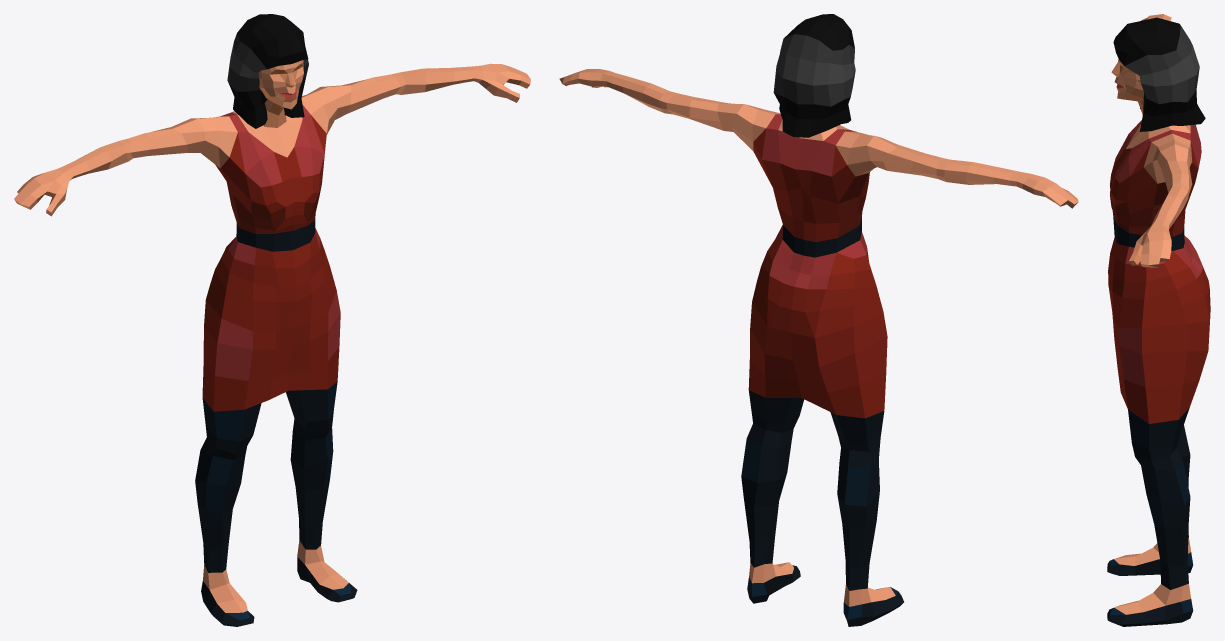
The model's file is Laura_(LSD).fbx.
3 renders of one model, left to right at view 1: azimuth 30°, elevation 25°; view 2: azimuth 150°, elevation 25°; view 3: azimuth 270°, elevation 25°, orthographic.
Visible parts, largest first — view 1: lpFemale_casual_B; view 2: lpFemale_casual_B; view 3: lpFemale_casual_B.
Boxes of the visible parts, <box> form: lpFemale_casual_B: <box>14,14,530,626</box>; lpFemale_casual_B: <box>559,14,1078,626</box>; lpFemale_casual_B: <box>1107,14,1210,626</box>.
Bounding box in the file's own units: 154 × 167 × 27.13.
